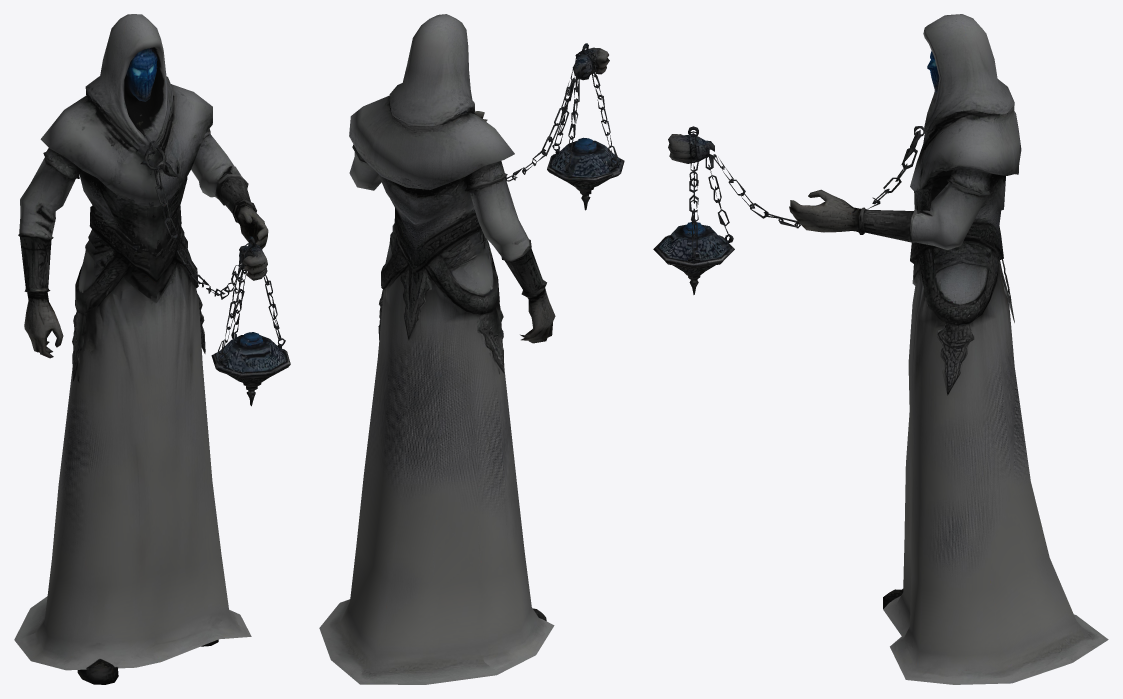
The model's file is selected.glb.
3 views of the same model, side by side, from view 1: azimuth 30°, elevation 25°; view 2: azimuth 150°, elevation 25°; view 3: azimuth 270°, elevation 25° (orthographic).
Visible parts, largest first — view 1: tripo_node_b797350e-f877-40c2-976d-200933e986f8; view 2: tripo_node_b797350e-f877-40c2-976d-200933e986f8; view 3: tripo_node_b797350e-f877-40c2-976d-200933e986f8.
Part boxes in pixels (x1=…): tripo_node_b797350e-f877-40c2-976d-200933e986f8: x1=14, y1=14, x2=290, y2=684; tripo_node_b797350e-f877-40c2-976d-200933e986f8: x1=319, y1=14, x2=624, y2=684; tripo_node_b797350e-f877-40c2-976d-200933e986f8: x1=653, y1=14, x2=1108, y2=684.
Size of the model in its own units: 0.3574 by 0.998 by 0.6621.
Materials: 1 (1 with a texture image).
